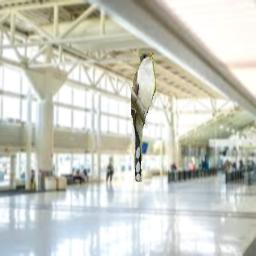Cuckoo: (131, 52, 156, 182)
